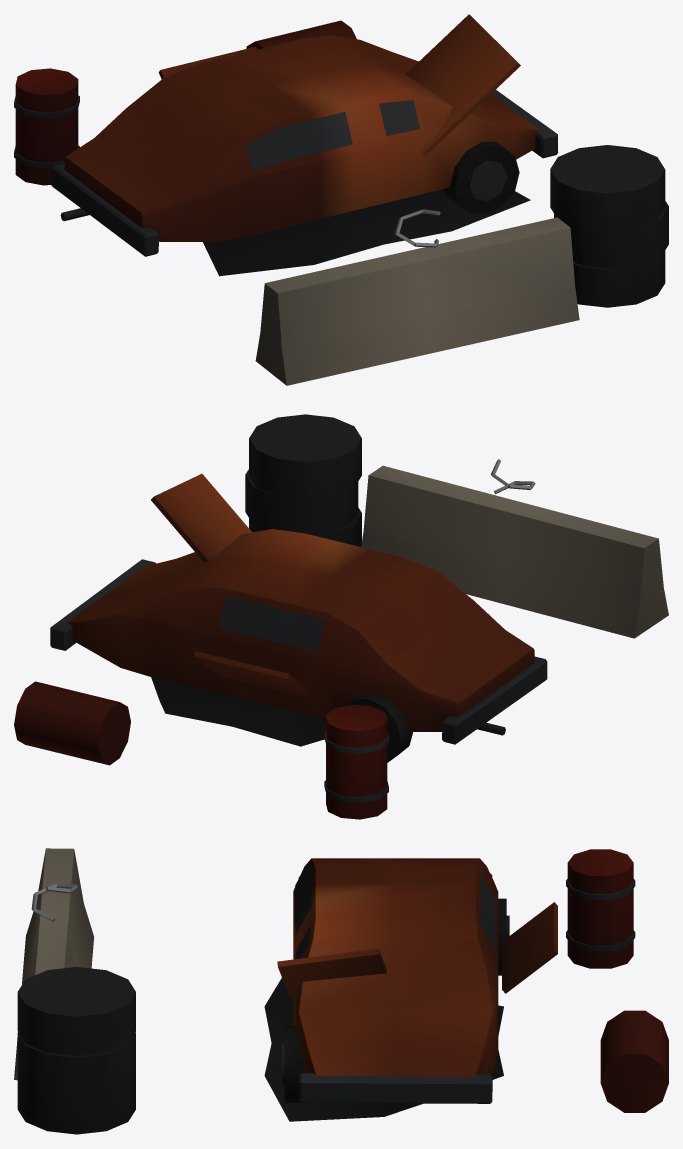
File: rb_wreck_car.glb
The picture shows the model from 3 angles, top to bottom: view 1: azimuth 30°, elevation 25°; view 2: azimuth 150°, elevation 25°; view 3: azimuth 270°, elevation 25°; orthographic projection. The views are drawn at different scales.
Parts seen in each view (by area): view 1: rust, concrete, metal_dark, rubber; view 2: rust, concrete, rubber, metal_dark; view 3: rust, rubber, metal_dark, concrete, spike.
Part boxes in pixels (<box>): rust: <box>15,14,539,241</box>; concrete: <box>255,217,579,385</box>; metal_dark: <box>14,90,558,276</box>; rubber: <box>444,141,668,307</box>; rust: <box>14,473,534,819</box>; concrete: <box>361,465,668,638</box>; rubber: <box>245,414,412,762</box>; metal_dark: <box>50,559,547,802</box>; rust: <box>277,849,668,1112</box>; rubber: <box>17,898,506,1134</box>; metal_dark: <box>264,863,635,1121</box>; concrete: <box>14,848,93,1080</box>; spike: <box>31,883,77,921</box>.
Size of what is drawn, in the model's own units: 4.52 by 1.6 by 5.75.
